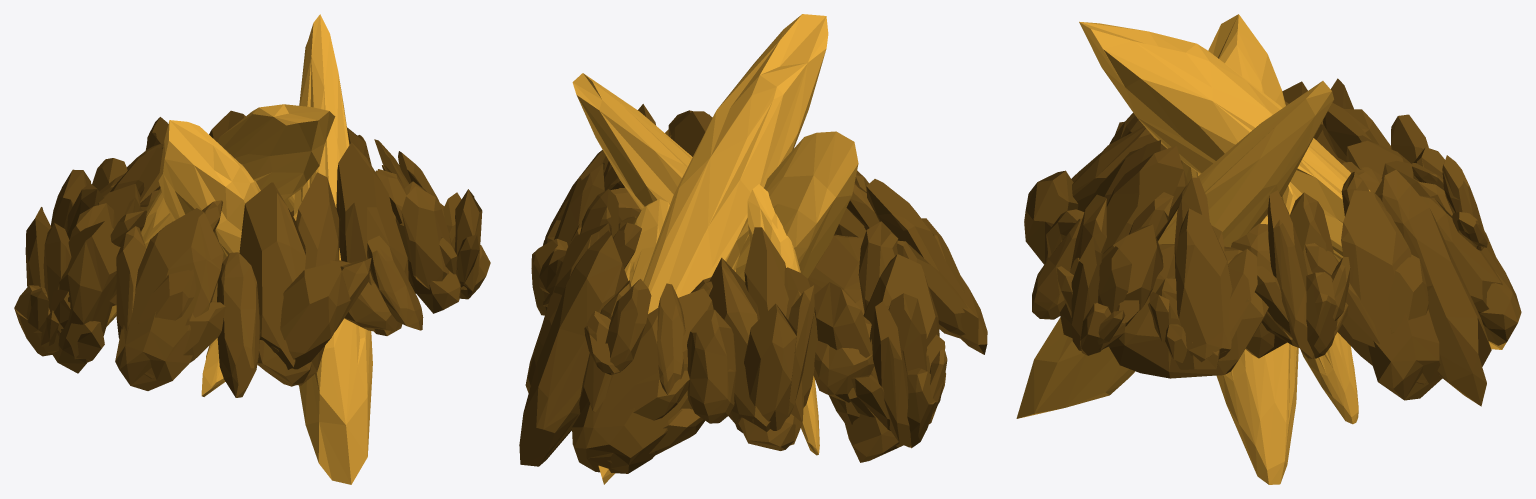
The model's file is Zakladna_FBX.fbx.
3 views of the same model, side by side, from view 1: azimuth 30°, elevation 25°; view 2: azimuth 150°, elevation 25°; view 3: azimuth 270°, elevation 25° (orthographic). The views are drawn at different scales.
Parts seen in each view (by area): view 1: Cube.022; view 2: Cube.022; view 3: Cube.022.
Boxes of the visible parts, <box> form: Cube.022: <box>14,14,490,484</box>; Cube.022: <box>519,14,987,484</box>; Cube.022: <box>1016,14,1521,484</box>.
Size of the model in its own units: 567 by 502 by 558.
